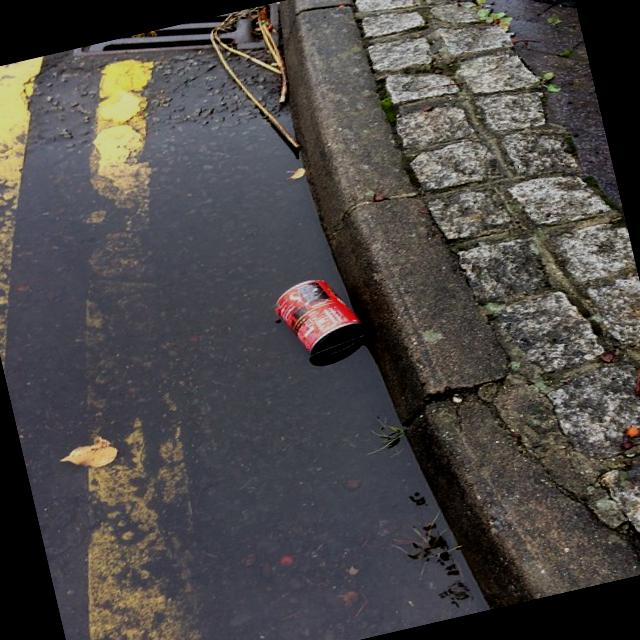Recycle: (268, 269, 369, 363)
